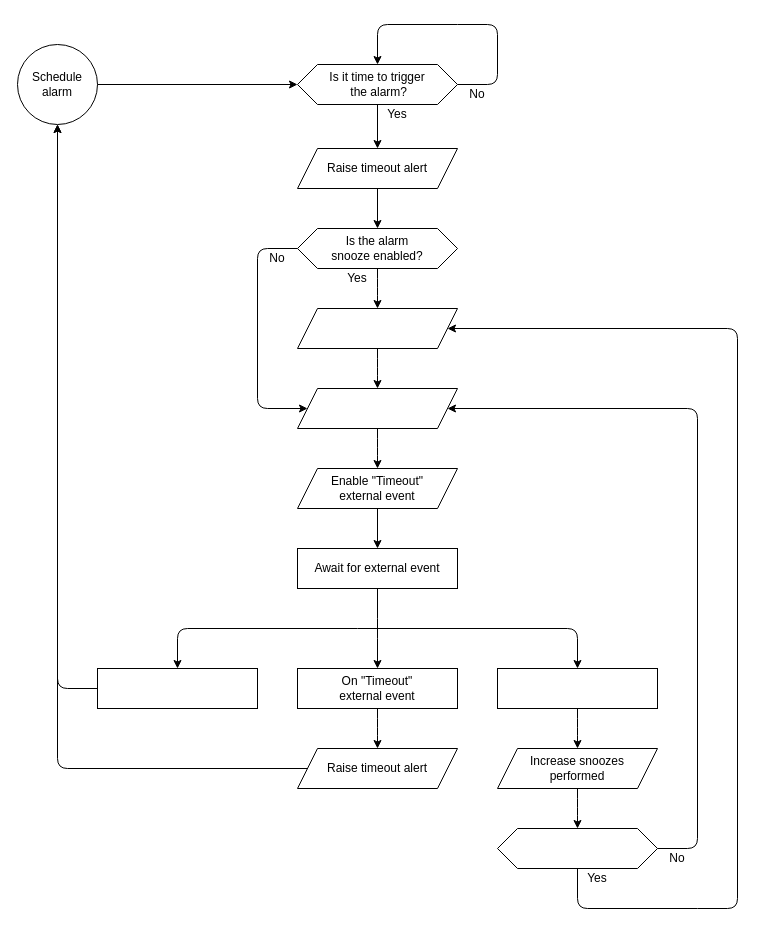
Some shapes in this 763 by 934 pixel diagram are drawn without their labels. Each missing label, with the box of its shape:
Are there any more snoozes available?: (496, 828, 658, 868)
Enable "Dismiss" external event: (296, 388, 458, 428)
Enable "Snooze" external event: (296, 308, 458, 348)
On "Dismiss" external event: (96, 668, 258, 708)
On "Snooze" external event: (496, 668, 658, 708)
